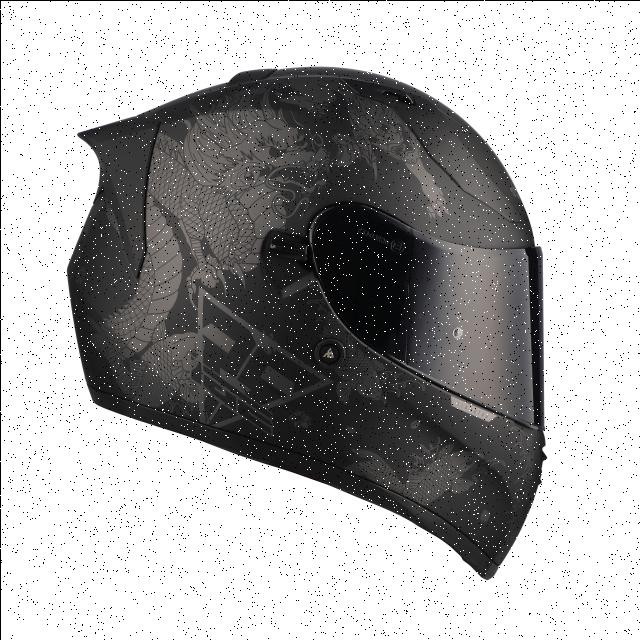Helmet: (60, 54, 566, 583)
